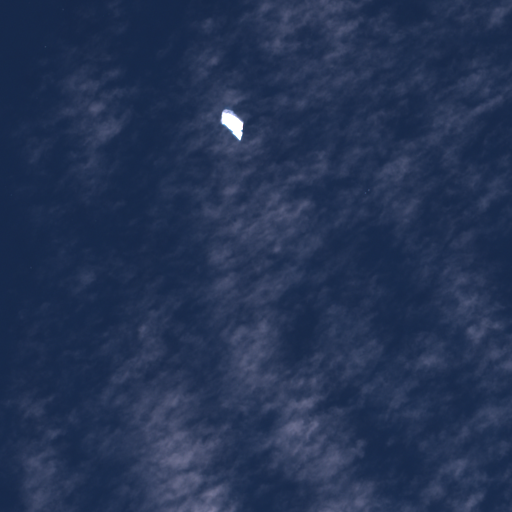Iceberg: (220, 109, 243, 140)
